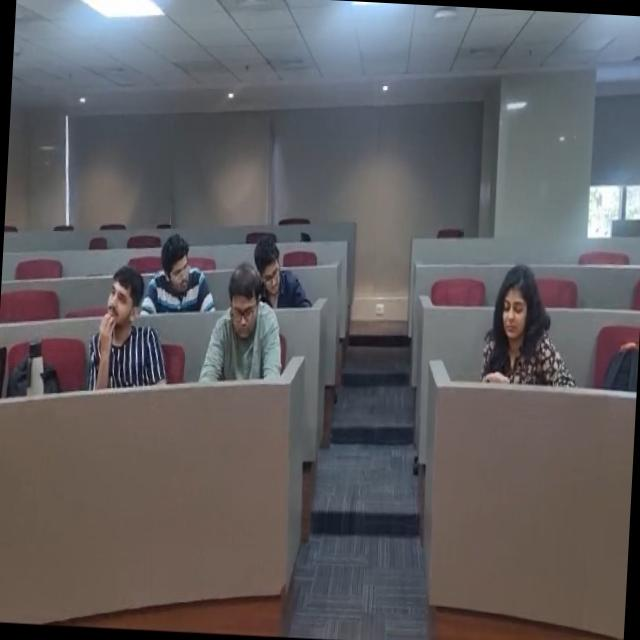cheating: (90, 264, 164, 392), (155, 239, 210, 317)
non-cheating: (483, 264, 557, 396), (206, 281, 292, 383), (257, 234, 311, 312)
